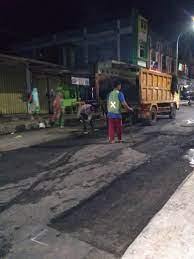Pothole: (155, 120, 194, 171)
